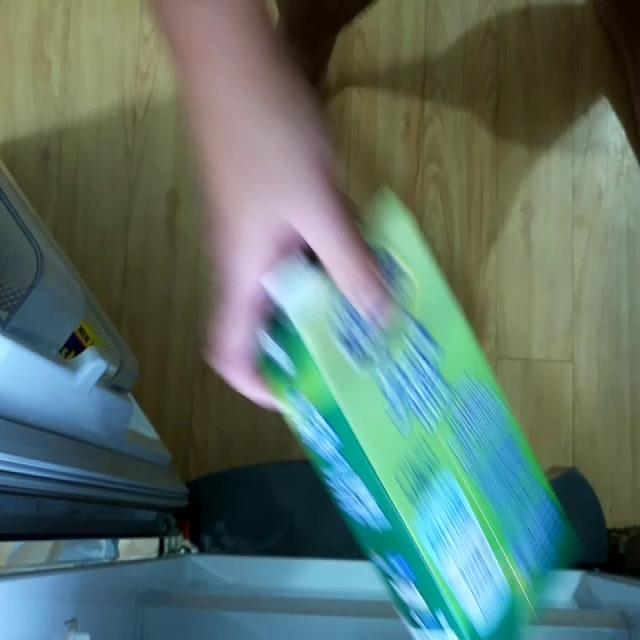milk: (255, 203, 569, 640)
